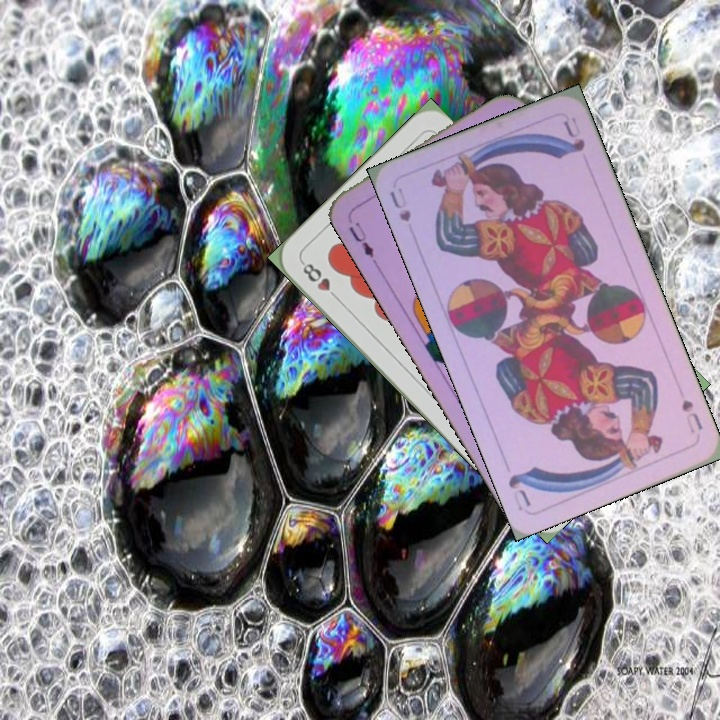EU: (344, 217, 379, 266)
H8: (298, 258, 343, 304)
SU: (677, 395, 706, 436), (385, 184, 414, 224)
